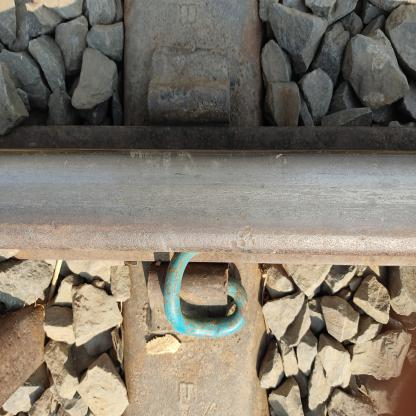Defective: (163, 267, 303, 381)
